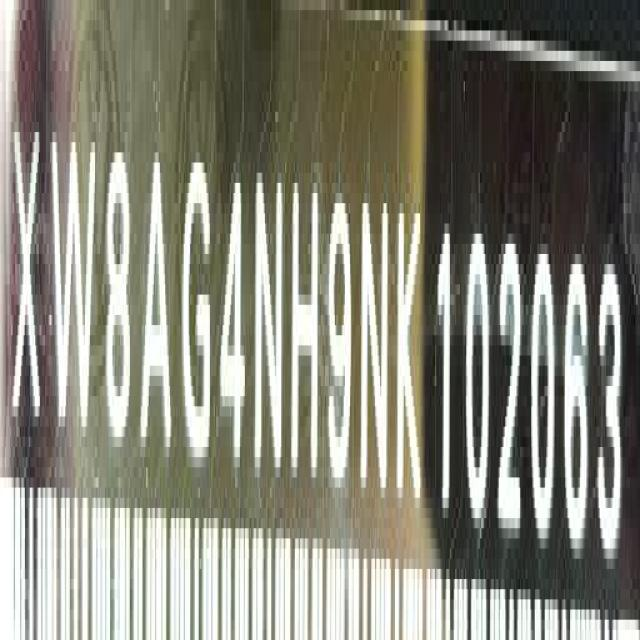0: (464, 218, 491, 533), (530, 237, 557, 546)
1: (434, 200, 455, 523)
2: (497, 226, 525, 557)
3: (600, 248, 626, 568)
4: (218, 149, 248, 477)
6: (562, 246, 590, 561)
8: (107, 144, 134, 452)
9: (326, 181, 353, 493)
A: (140, 143, 174, 462)
G: (183, 147, 214, 471)
H: (291, 165, 319, 490)
K: (396, 192, 424, 515)
N: (253, 158, 286, 474), (359, 182, 391, 504)
W: (51, 119, 97, 447)
X: (13, 112, 43, 441)
